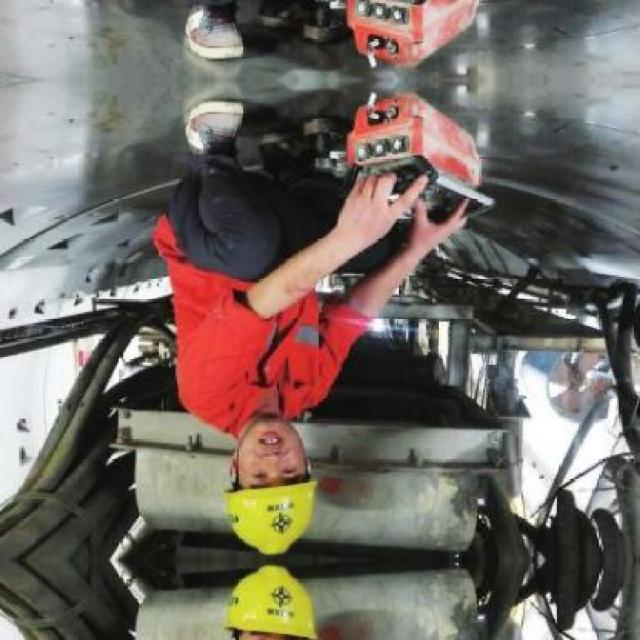safetyhelmet: (220, 445, 324, 556)
